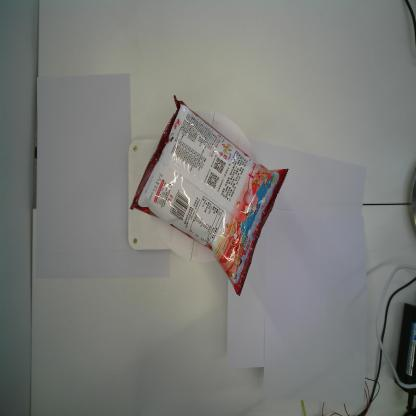Puffed Food: (128, 94, 289, 298)
